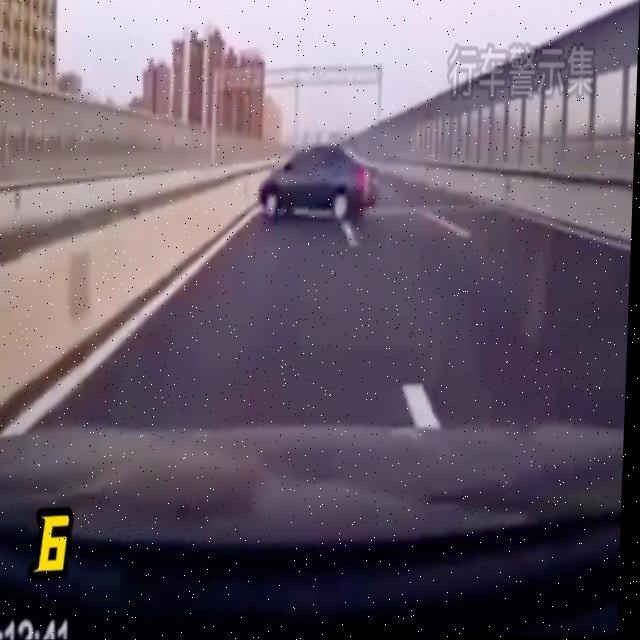single accident: (232, 132, 399, 233)
